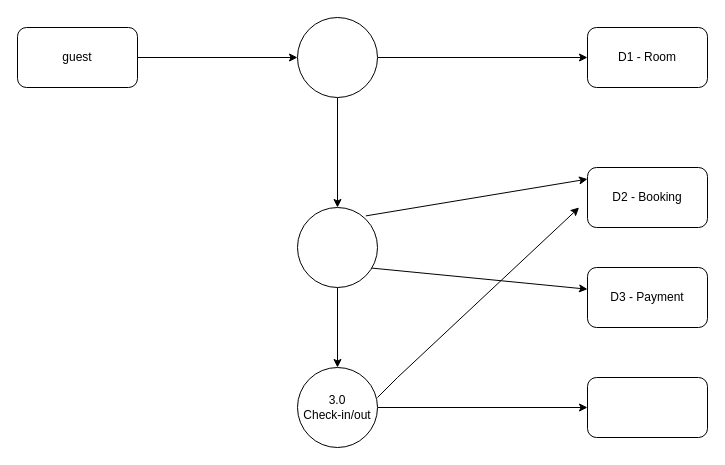
Some shapes in this 725 by 465 pixel diagram are drawn without their labels. Here are the shapes that lost their labels. From the top down, the centre of each, then its label:
At point 337,57: "1.0 Make a reservation".
At point 337,247: "2.0 payment".
At point 647,407: "Receptionist".
